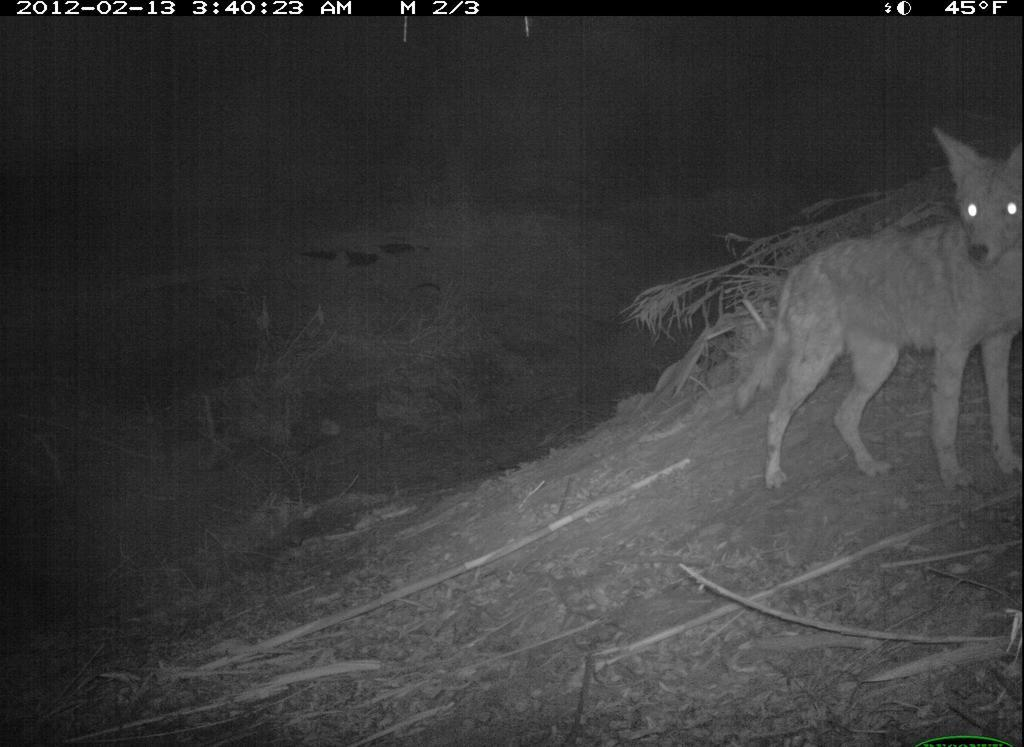coyote: (728, 122, 1023, 498)
